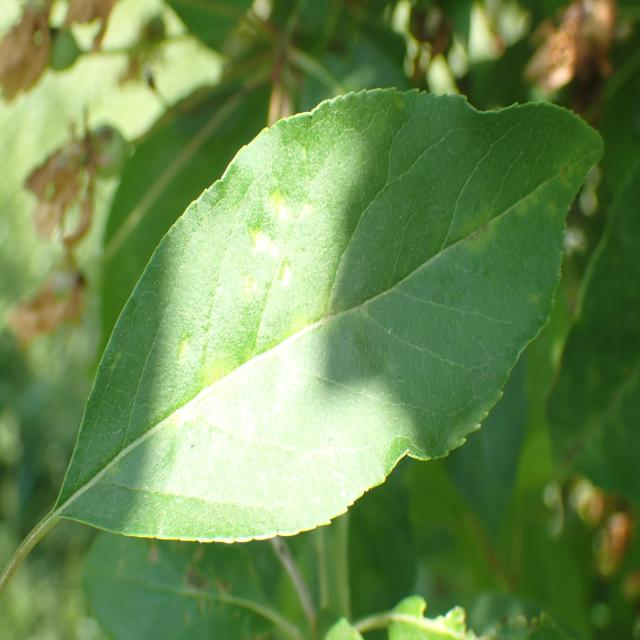scab: (122, 138, 564, 384)
